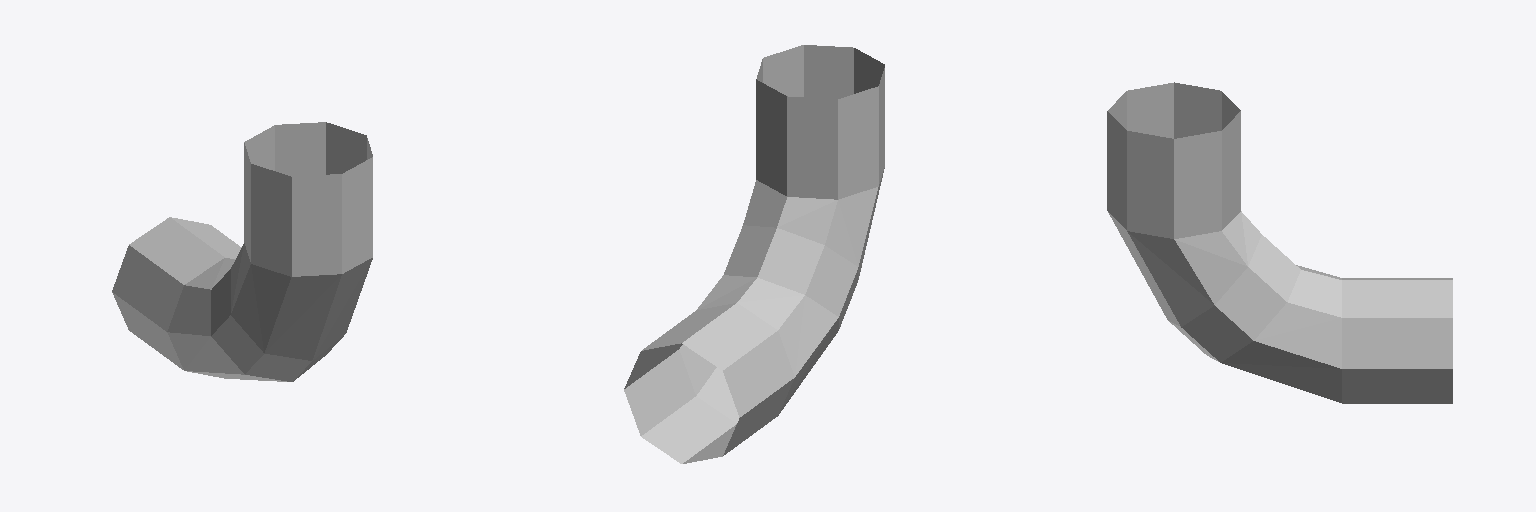
The model's file is PipewireDecallCorner.obj.
3 renders of one model, left to right at view 1: azimuth 30°, elevation 25°; view 2: azimuth 150°, elevation 25°; view 3: azimuth 270°, elevation 25°, orthographic.
Visible parts, largest first — view 1: Cube; view 2: Cube; view 3: Cube.
Boxes of the visible parts, x1,y1,x2,y2 form: Cube: [112, 122, 372, 381]; Cube: [624, 45, 884, 463]; Cube: [1107, 82, 1452, 403].
Size of the model in its own units: 0.6036 by 1.45 by 1.56.